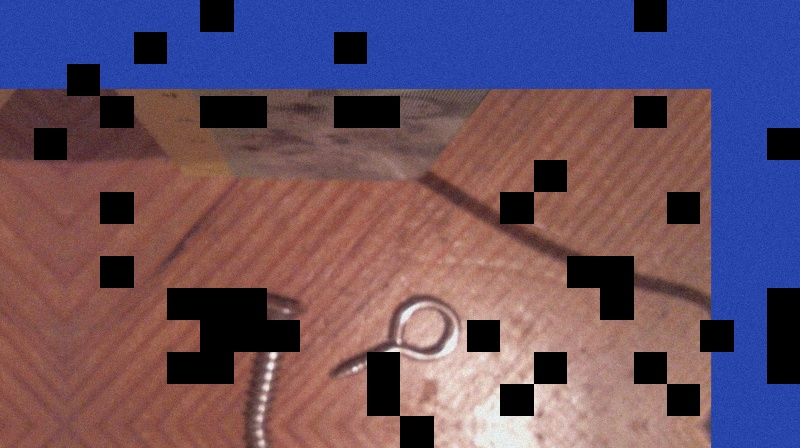O001: (322, 292, 461, 379)
S001: (239, 290, 304, 446)
